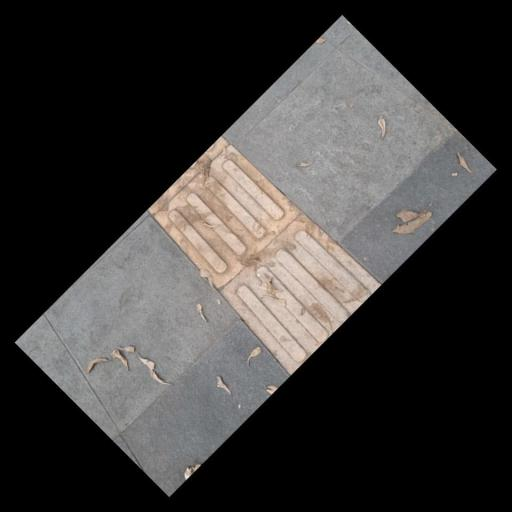line: (219, 216, 382, 376), (152, 144, 301, 289)
